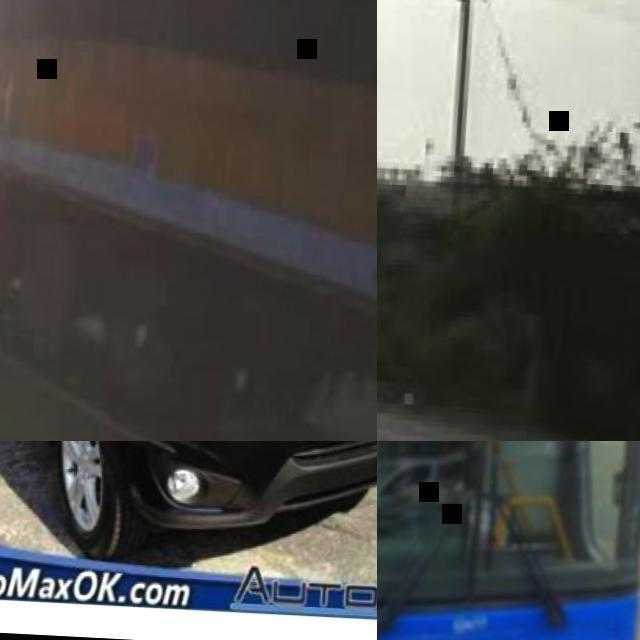car: (43, 439, 365, 550)
